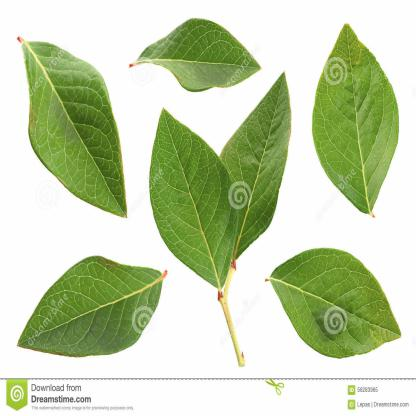blueberry leaf: (16, 35, 135, 230), (312, 12, 407, 232), (147, 83, 233, 290), (262, 241, 408, 362), (19, 253, 174, 363), (220, 59, 300, 260), (134, 11, 267, 100)
